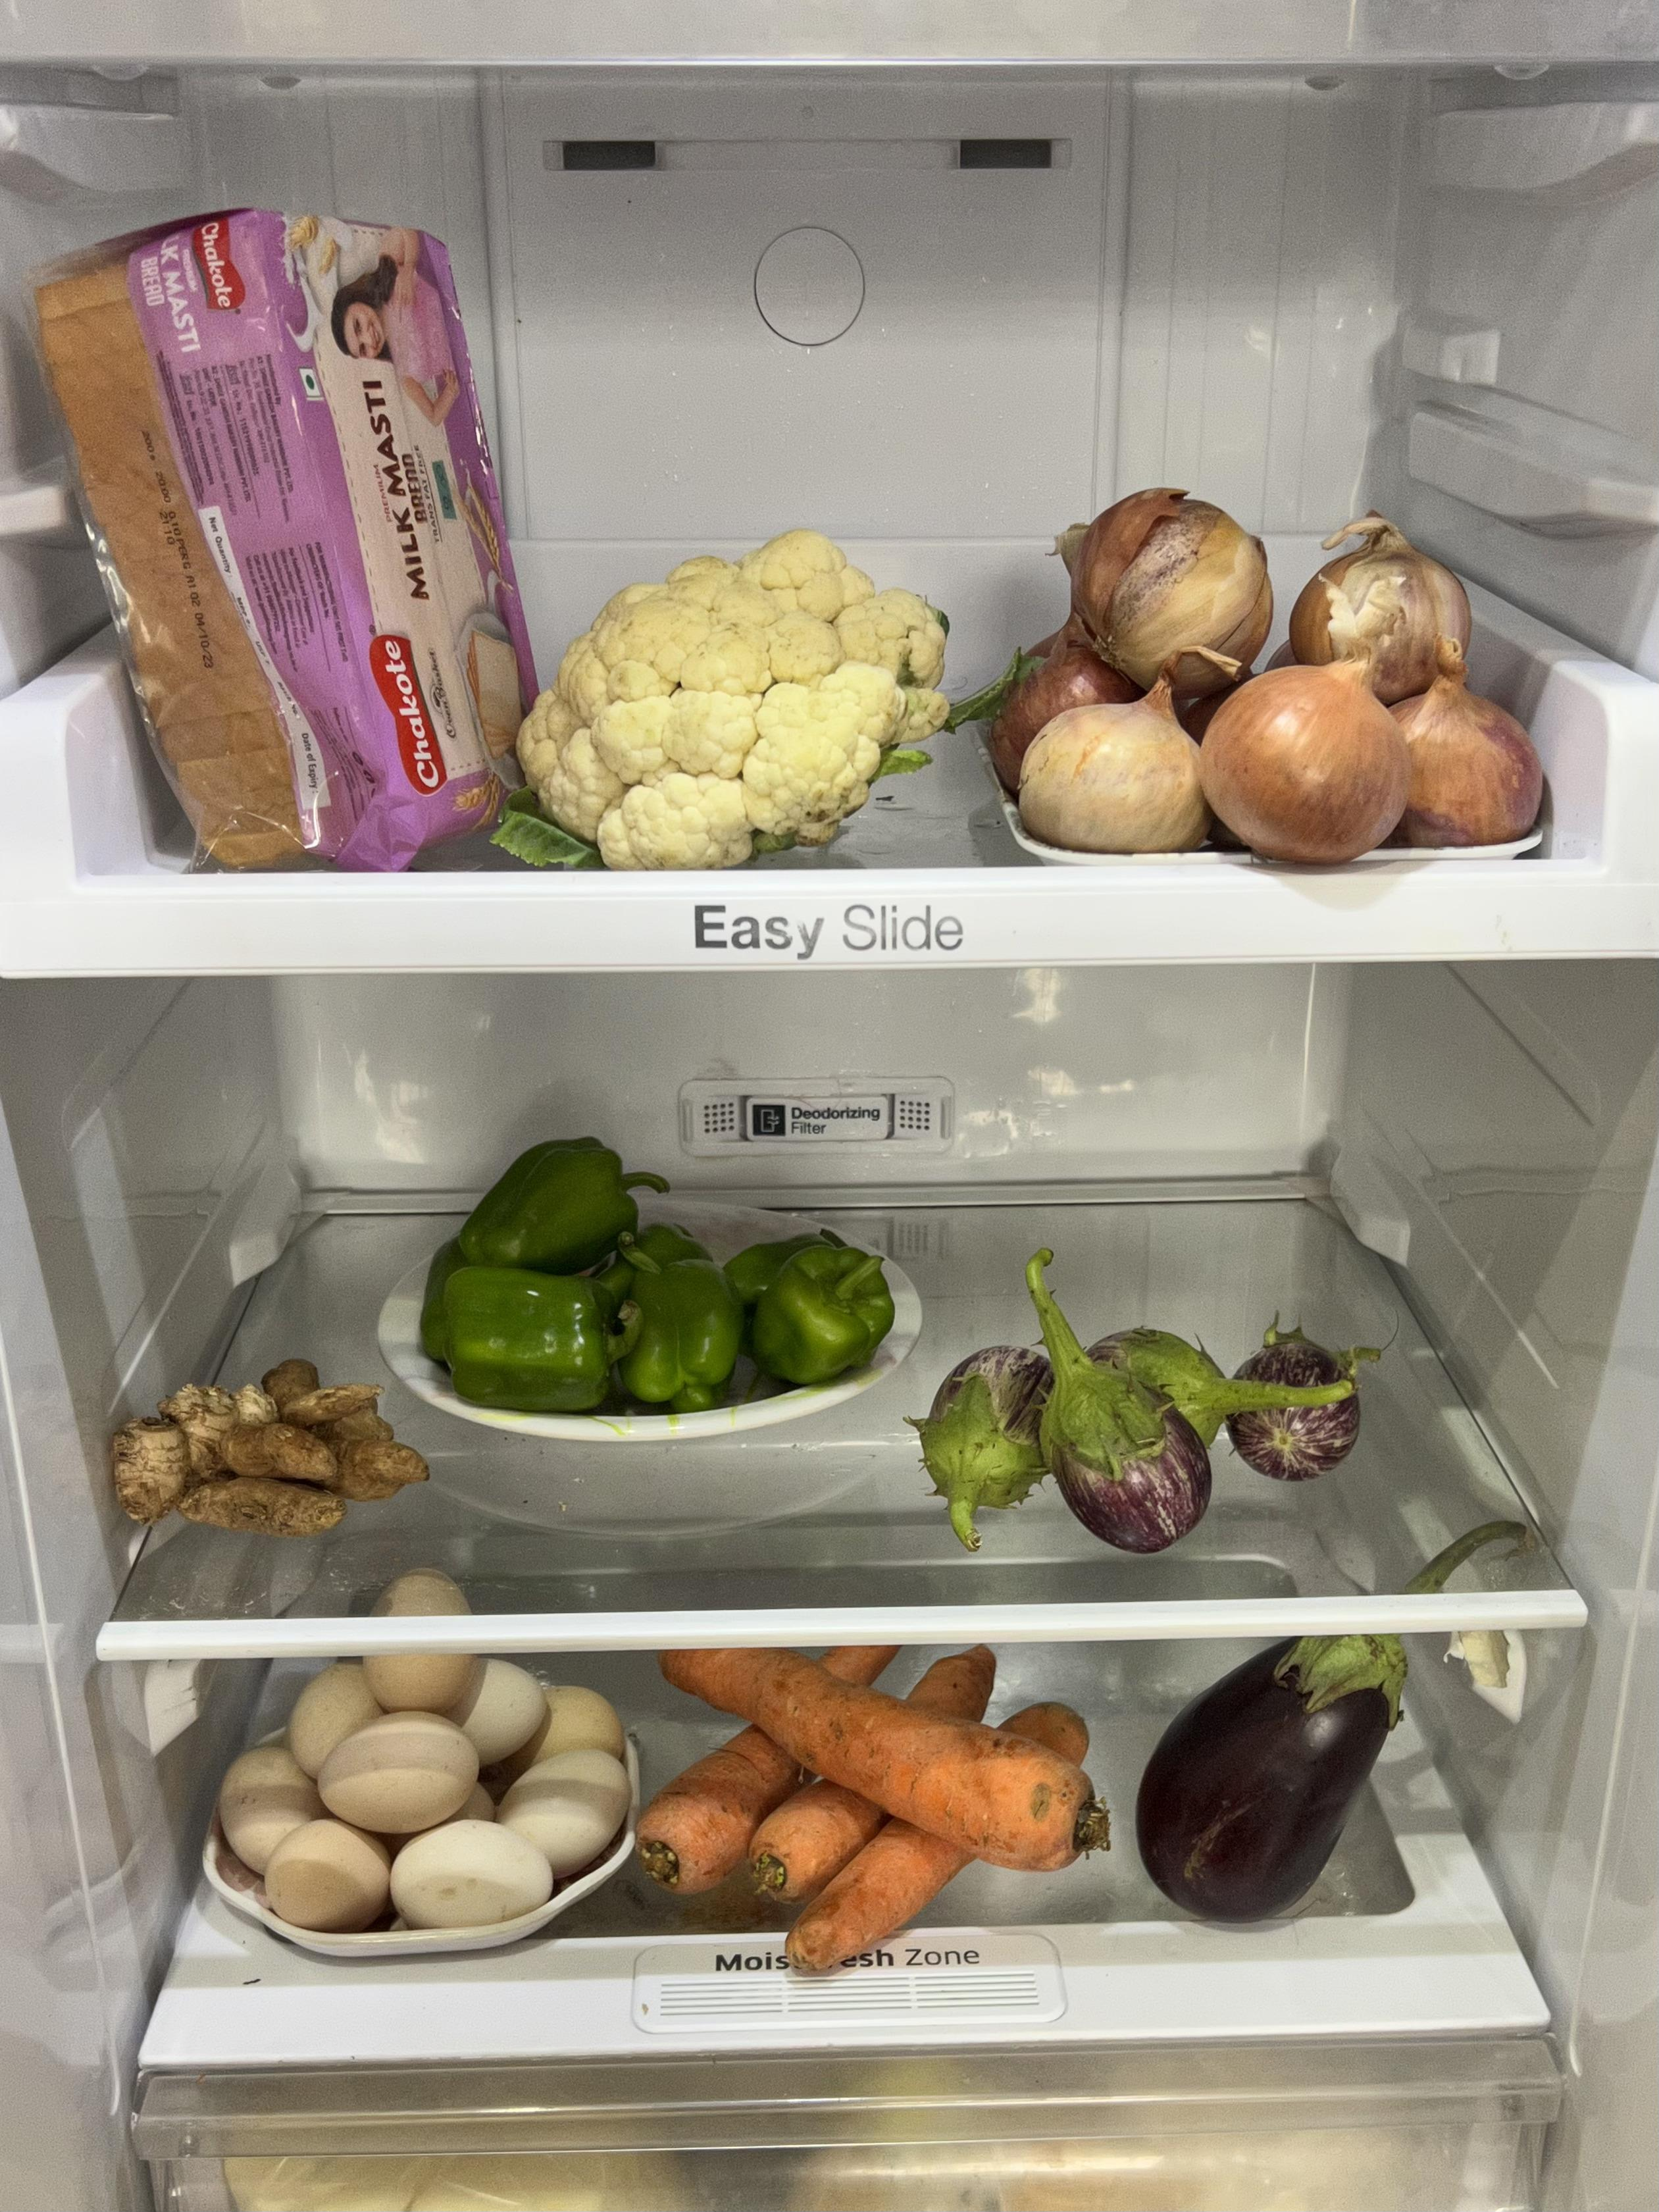bread: (35, 173, 559, 880)
bringal: (917, 1272, 1420, 1551), (1161, 1628, 1459, 1935)
capsicum: (397, 1147, 904, 1426)
carrots: (660, 1647, 1138, 1963)
cauliflower: (526, 509, 946, 866)
egg: (199, 1640, 636, 1954)
ginger: (94, 1332, 420, 1560)
onion: (969, 495, 1574, 885)
